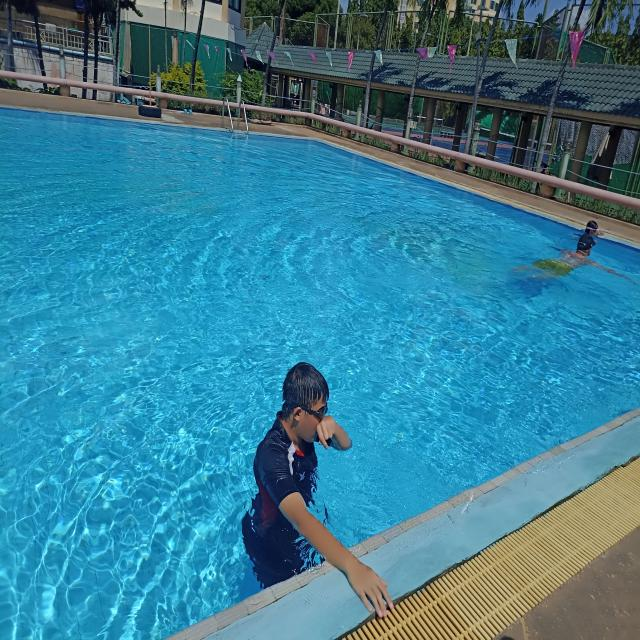Swimming: (538, 238, 621, 281), (582, 214, 603, 240)
